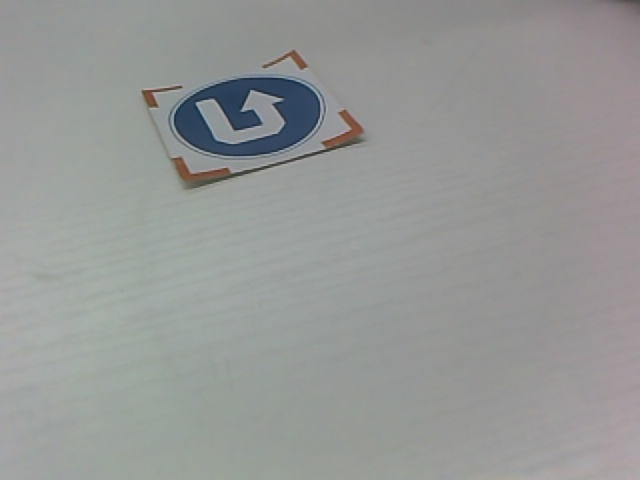turn_around: (138, 52, 378, 187)
